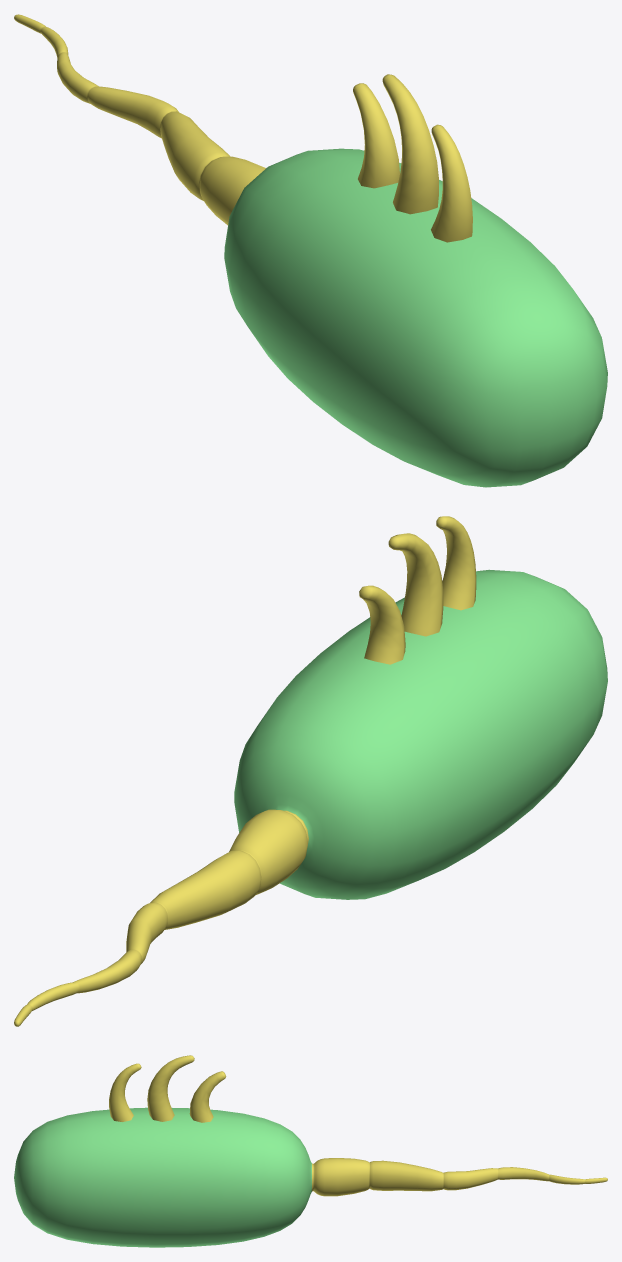
The model's file is bacteria.fbx.
3 views of the same model, one above another, from view 1: azimuth 30°, elevation 25°; view 2: azimuth 150°, elevation 25°; view 3: azimuth 270°, elevation 25° (orthographic). The views are drawn at different scales.
Parts seen in each view (by area): view 1: bacteria; view 2: bacteria; view 3: bacteria.
Part boxes in pixels (box(x1,y1,x2,y2)): bacteria: box(14, 14, 607, 487); bacteria: box(14, 516, 607, 1026); bacteria: box(14, 1055, 607, 1247).
Bounding box in the file's own units: 817 × 1203 × 3505.
